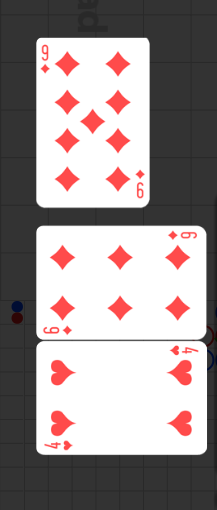4H: (168, 345, 200, 358)
9D: (40, 43, 52, 75), (135, 168, 147, 200)
